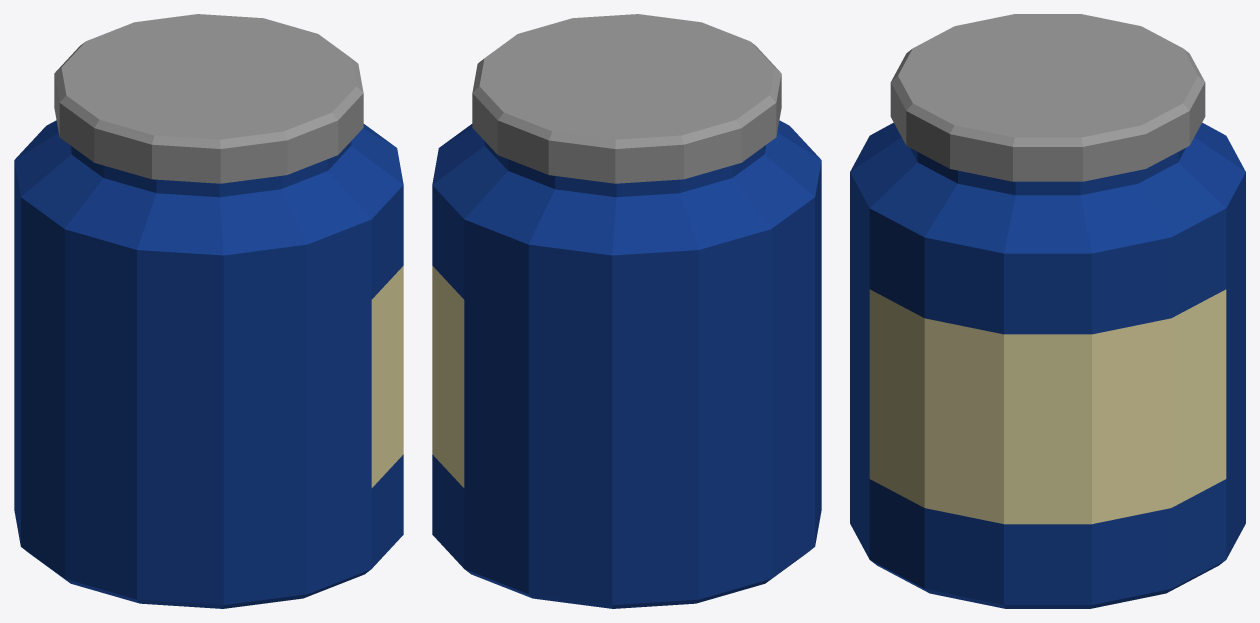
The model's file is Proteinpulver.fbx.
3 views of the same model, side by side, from view 1: azimuth 30°, elevation 25°; view 2: azimuth 150°, elevation 25°; view 3: azimuth 270°, elevation 25° (orthographic).
Parts seen in each view (by area): view 1: Proteinpulverdose; view 2: Proteinpulverdose; view 3: Proteinpulverdose.
Boxes of the visible parts, x1,y1,x2,y2 form: Proteinpulverdose: [14, 14, 403, 608]; Proteinpulverdose: [432, 14, 821, 608]; Proteinpulverdose: [850, 14, 1245, 608].
Bounding box in the file's own units: 333 × 433 × 341.
